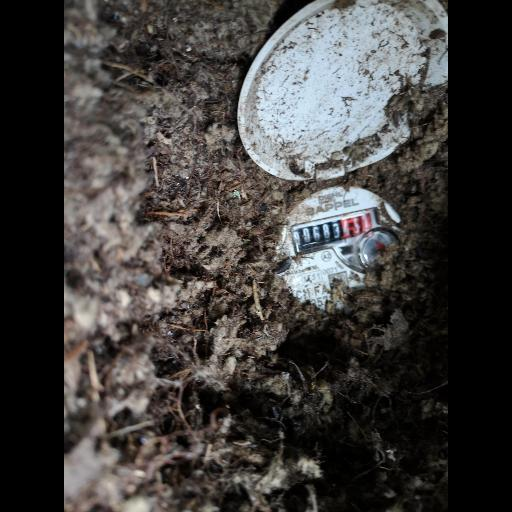0: (300, 226, 315, 249), (292, 229, 305, 251)
1: (359, 213, 374, 234)
3: (330, 220, 343, 241)
4: (340, 218, 353, 239)
5: (350, 216, 363, 237)
6: (311, 224, 324, 246)
8: (319, 222, 333, 244)
border_water_meter_number: (290, 207, 385, 253)
